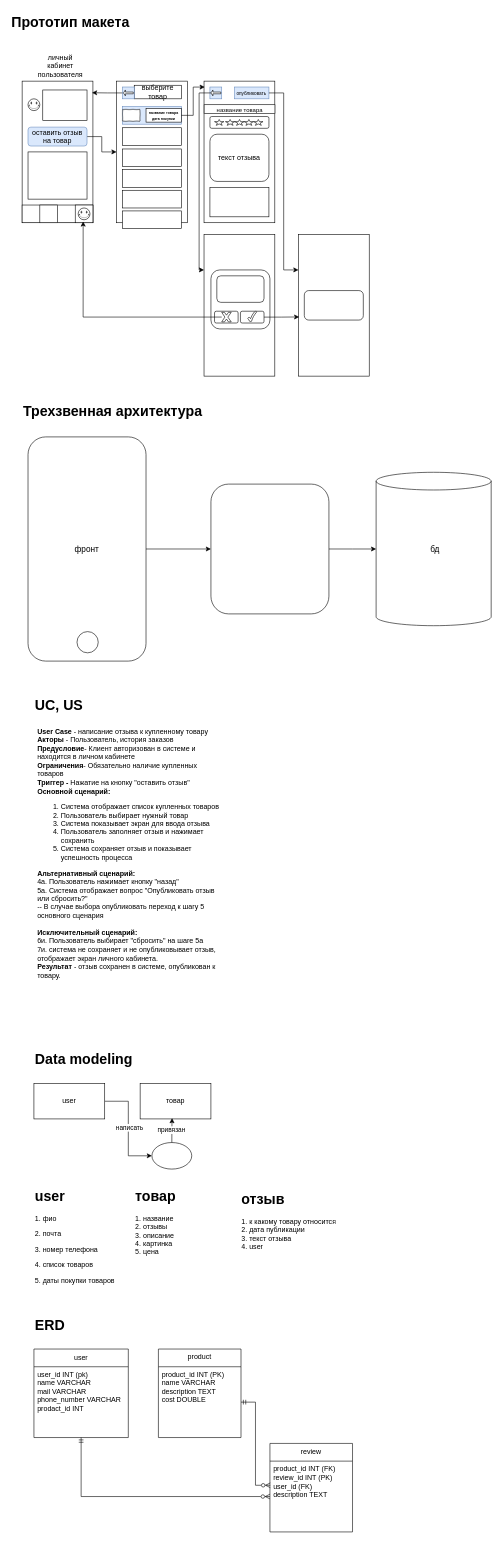
This 501x1543 diagram has some shape labels left out. The shapes that lost their labels are listed below. From the top down, each one's centre as x and y in pixels, then its label:
the point at 131,115: картинка товара
the point at 239,202: клавиатура
the point at 240,288: опубликовать отзыв или удалить?
the point at 333,305: отзыв успешно опубликован!
the point at 269,549: бэк
the point at 171,1155: отзыв
